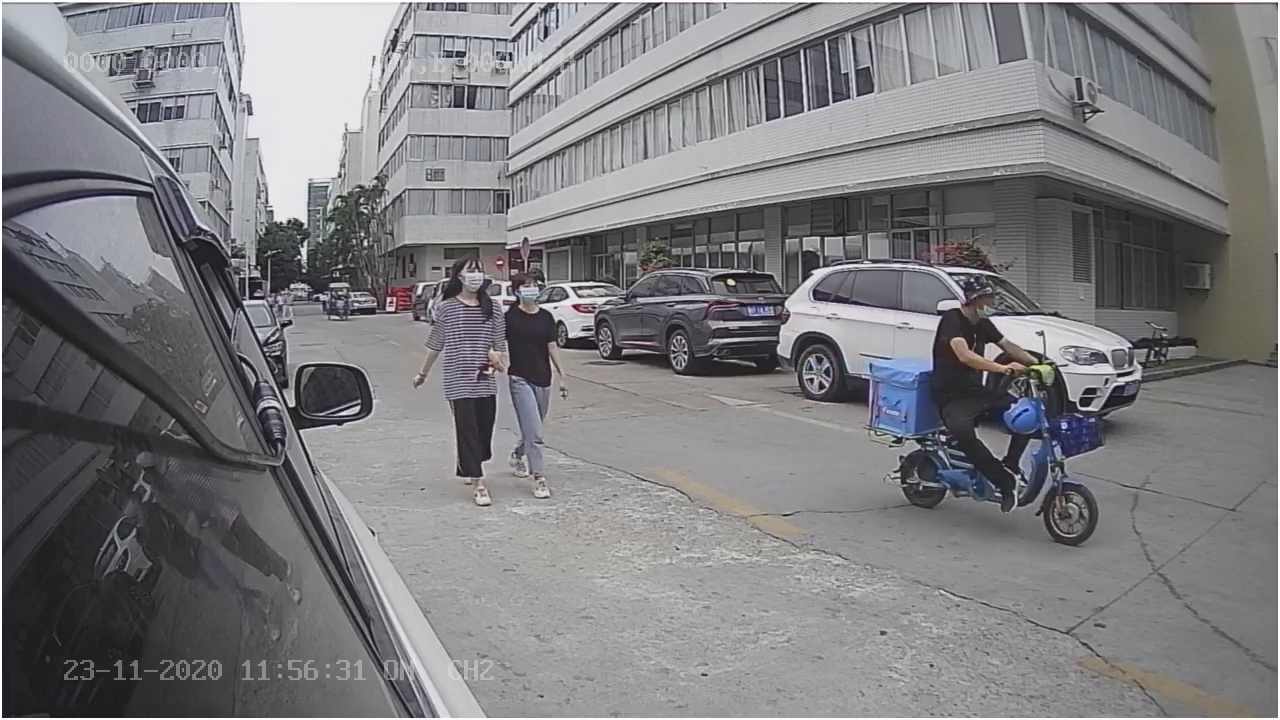person: (405, 257, 500, 512), (510, 255, 565, 504), (931, 273, 1007, 388)
